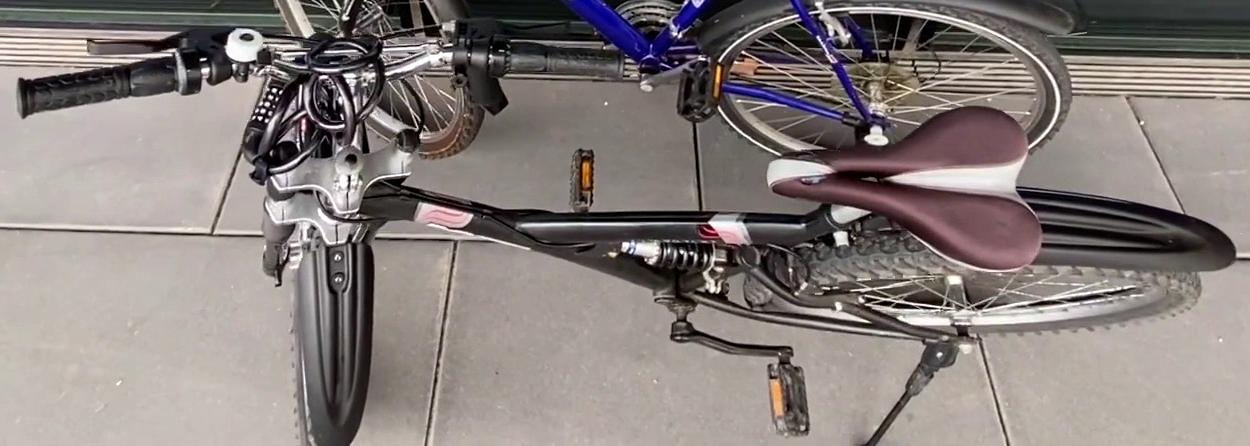Bicycle: (1, 0, 1250, 446)
